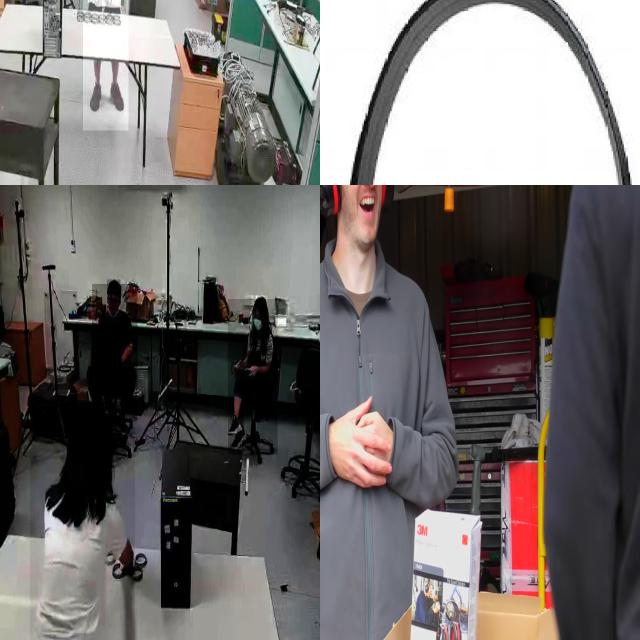Ear-protection: (325, 0, 640, 185), (320, 185, 395, 256)
face_mask: (250, 312, 265, 334)
face_nomask: (106, 295, 120, 314)
hand_glove: (105, 0, 124, 11), (89, 0, 102, 9)
hand_noglove: (231, 362, 245, 376), (248, 363, 258, 377)
head_nohelmet: (68, 400, 108, 430), (252, 296, 268, 312), (107, 280, 121, 294)
person: (30, 404, 135, 640), (228, 299, 278, 455), (92, 284, 138, 422), (83, 0, 129, 131)
shoes: (108, 78, 126, 120), (88, 80, 104, 117), (230, 427, 247, 450), (227, 414, 242, 436)
